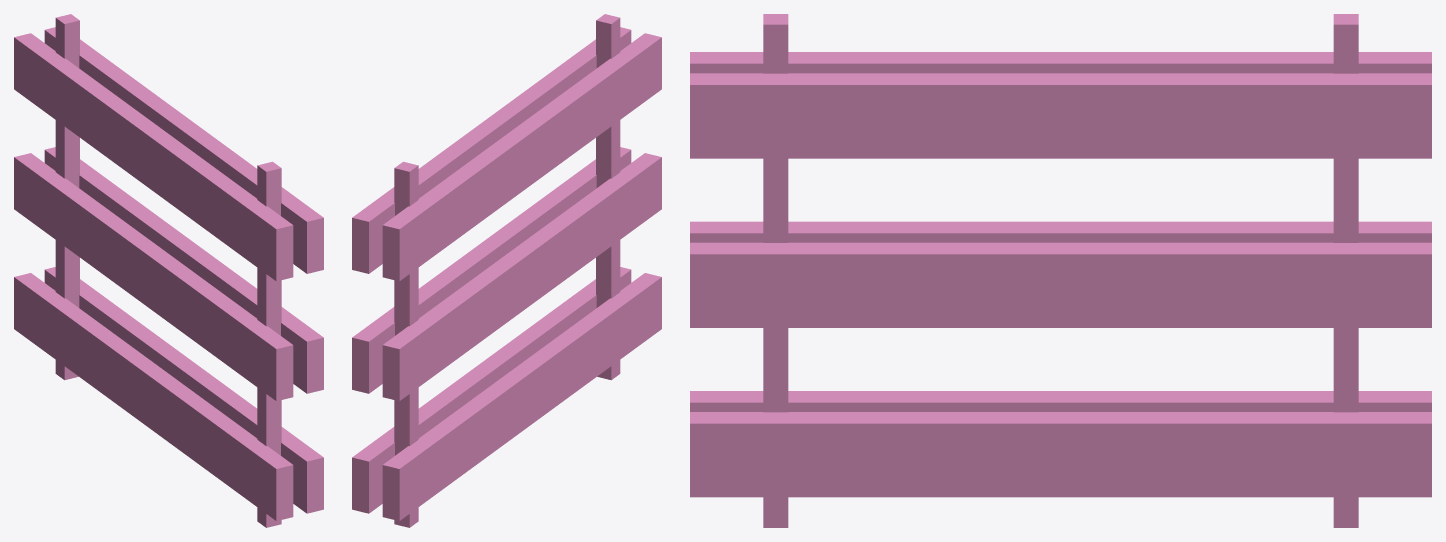
3 renders of one model, left to right at view 1: azimuth 30°, elevation 25°; view 2: azimuth 150°, elevation 25°; view 3: azimuth 270°, elevation 25°, orthographic. The views are drawn at different scales.
Parts seen in each view (by area): view 1: fe; view 2: fe; view 3: fe.
Boxes of the visible parts, x1,y1,x2,y2 form: fe: (14,14,323,527); fe: (352,14,661,527); fe: (690,14,1431,527).
Bounding box in the file's own units: 34.72 × 249 × 332.
